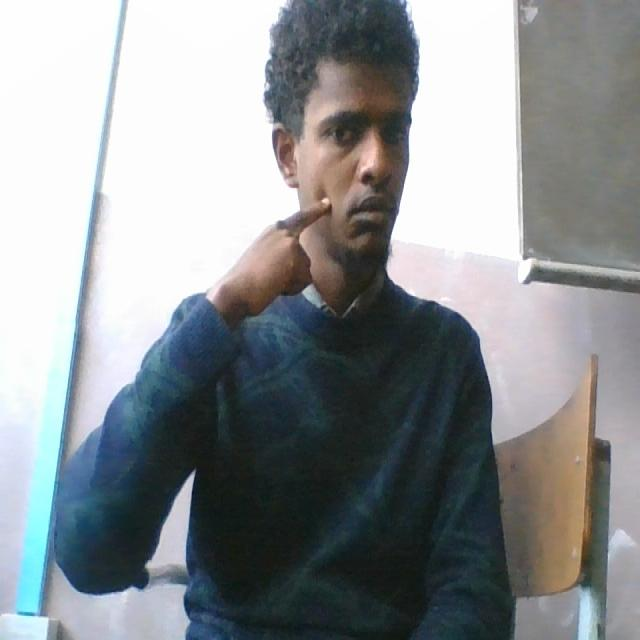enkuan_dehna_metachu: (240, 185, 404, 310)
